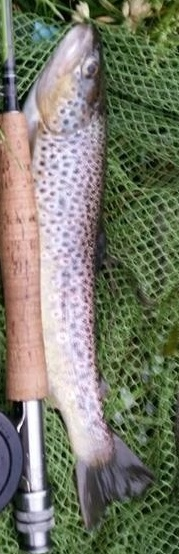Salmo trutta subsp. fario: (20, 20, 159, 534)
